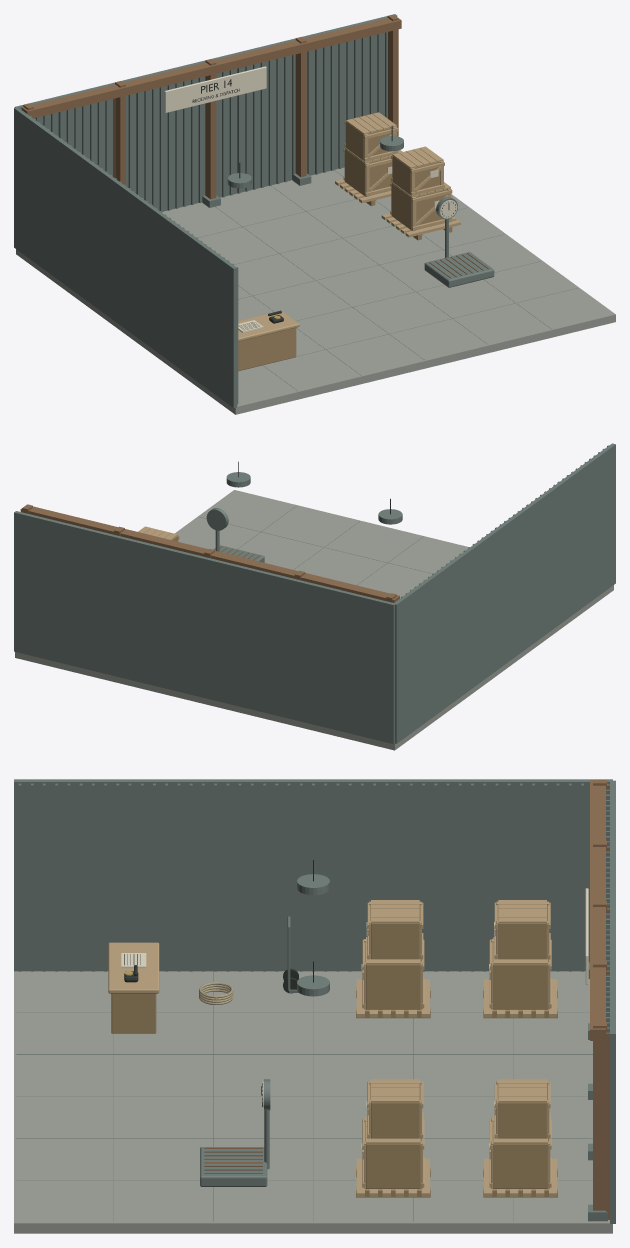
The model's file is interior-docks.glb.
The picture shows the model from 3 angles, top to bottom: view 1: azimuth 30°, elevation 25°; view 2: azimuth 150°, elevation 25°; view 3: azimuth 270°, elevation 25°; orthographic projection. The views are drawn at different scales.
Visible parts, largest first — view 1: shed foundation, side cladding, rear cladding, rear corrugation, pallet bearer, pallet deck, floor expansion seam, pier sign, freight docket; view 2: rear cladding, side cladding, shed foundation, rear corrugation, floor expansion seam; view 3: shed foundation, side cladding, pallet bearer, pallet deck, floor expansion seam, rear corrugation, rear cladding, platform rib, coiled hemp rope, freight docket.
Boxes of the visible parts, x1,y1,x2,y2 form: shed foundation: (16,167,615,414); side cladding: (14,107,238,408); rear cladding: (14,14,397,212); rear corrugation: (20,14,401,199); pallet bearer: (238,121,452,371); pallet deck: (238,112,460,341); floor expansion seam: (198,136,577,390); pier sign: (164,66,266,113); freight docket: (238,135,457,332); rear cladding: (14,511,395,744); side cladding: (393,443,615,743); shed foundation: (15,490,613,750); rear corrugation: (20,504,399,602); floor expansion seam: (200,472,432,585); shed foundation: (14,971,612,1233); side cladding: (14,779,612,971); pallet bearer: (111,923,557,1197); pallet deck: (108,900,557,1196); floor expansion seam: (16,874,592,1221); rear corrugation: (590,779,609,1219); rear cladding: (588,780,615,1223); platform rib: (204,1147,262,1173); coiled hemp rope: (199,982,233,1004); freight docket: (121,922,494,1157).
Bounding box in the file's own units: 12.06 × 4.52 × 12.06.
